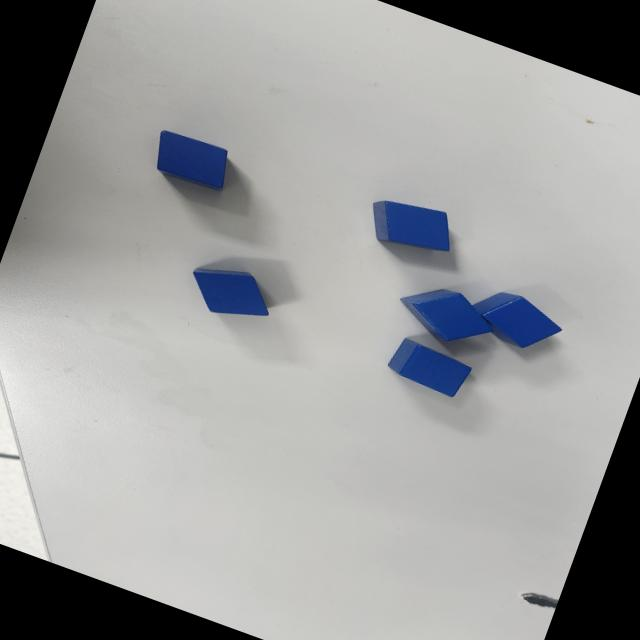blue: (392, 274, 501, 356), (464, 282, 569, 362), (363, 188, 463, 266), (180, 255, 280, 332), (384, 335, 476, 402), (146, 126, 235, 195)
